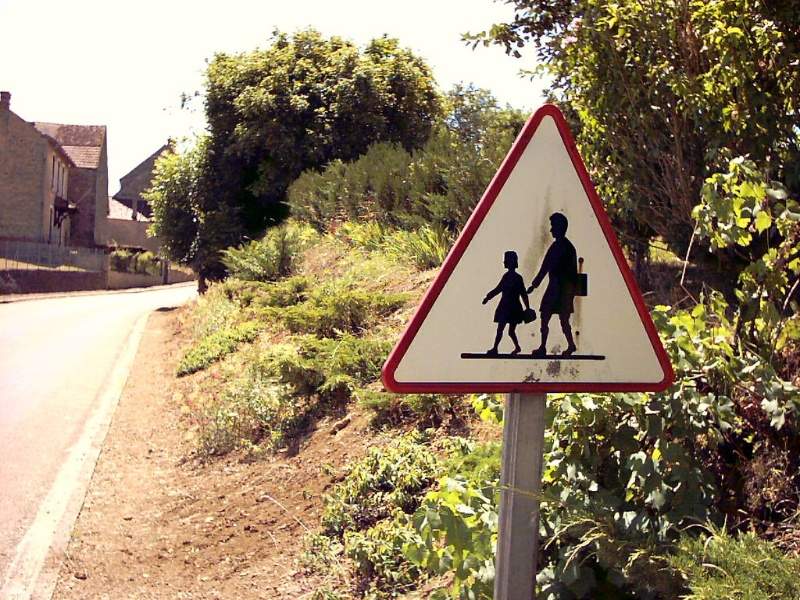pedestrian_crossing_ahead: (484, 209, 601, 364)
